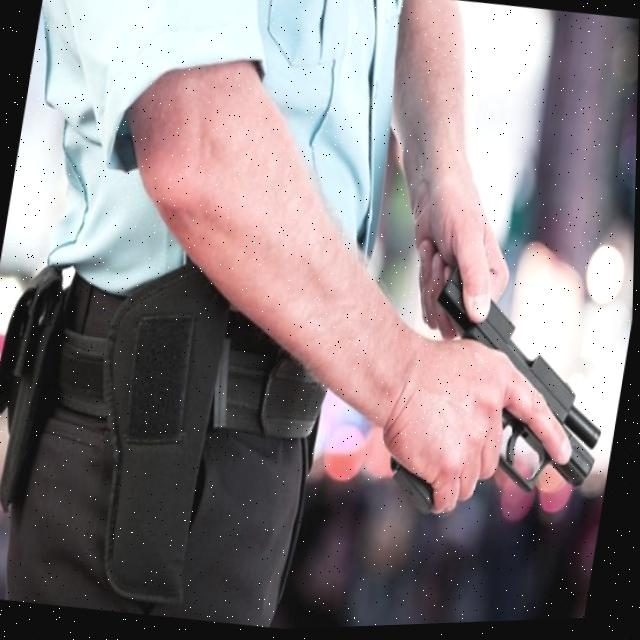pistol: (406, 255, 628, 510)
